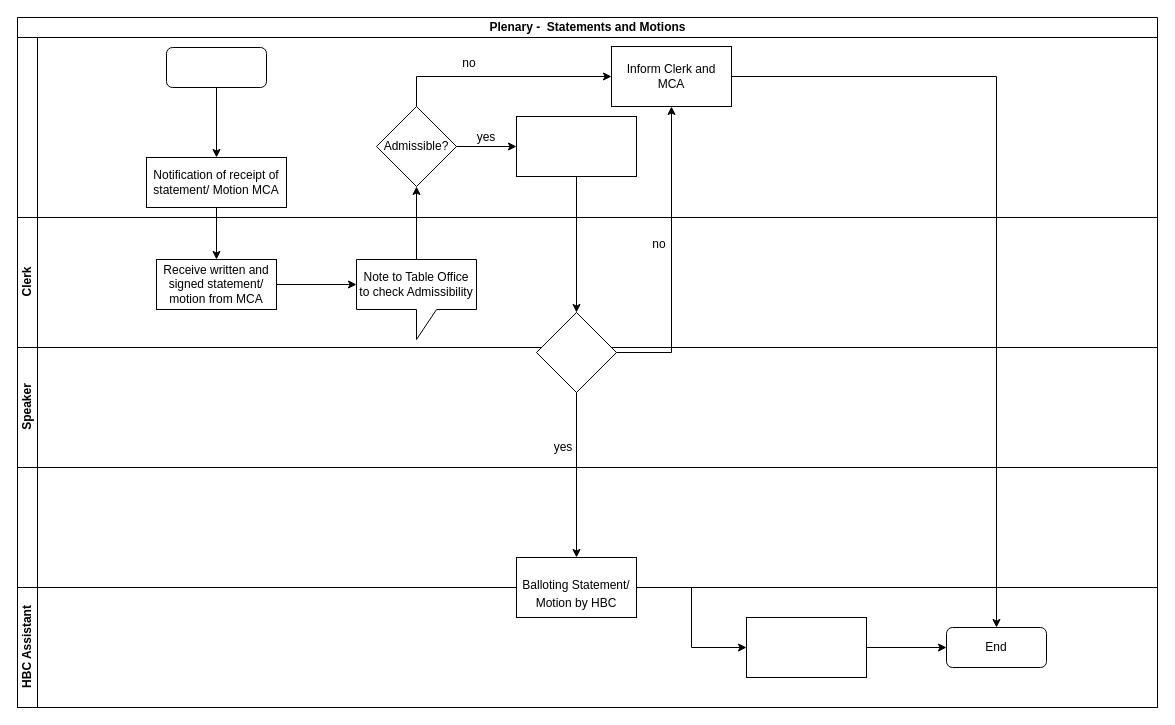
Image size: 1175x725. Some labels were removed from this diagram. The shapes that lost their labels are listed below. From the top down, each one's box as (x1, y1, x2, y2) in pixels, then its label:
(166, 46, 266, 88): Start
(516, 116, 636, 176): Forward for approval
(16, 36, 1158, 218): Table Office
(536, 312, 616, 392): Approved?
(16, 466, 1158, 588): Clerk Assistant
(746, 616, 866, 678): Approval of Statement/ Motion by HBC
